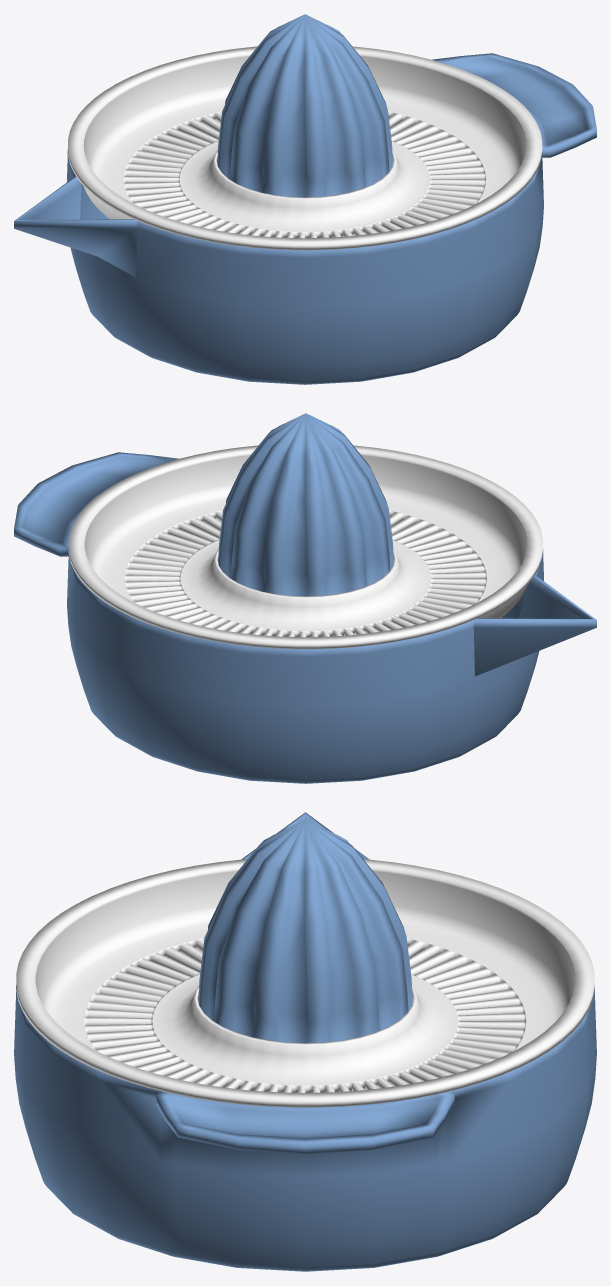
Rendered from squeezer.glb.
3 views of the same model, one above another, from view 1: azimuth 30°, elevation 25°; view 2: azimuth 150°, elevation 25°; view 3: azimuth 270°, elevation 25° (orthographic). The views are drawn at different scales.
Visible parts, largest first — view 1: exprimidor_Cube.001, exprimi2_Cube; view 2: exprimidor_Cube.001, exprimi2_Cube; view 3: exprimidor_Cube.001, exprimi2_Cube.
Part boxes in pixels (bbox=[...]): exprimidor_Cube.001: bbox=[14, 14, 596, 384]; exprimi2_Cube: bbox=[68, 46, 542, 250]; exprimidor_Cube.001: bbox=[14, 413, 596, 783]; exprimi2_Cube: bbox=[68, 445, 542, 649]; exprimidor_Cube.001: bbox=[14, 812, 596, 1271]; exprimi2_Cube: bbox=[16, 859, 594, 1107].
Size of the model in its own units: 4.57 by 2.18 by 3.38.
